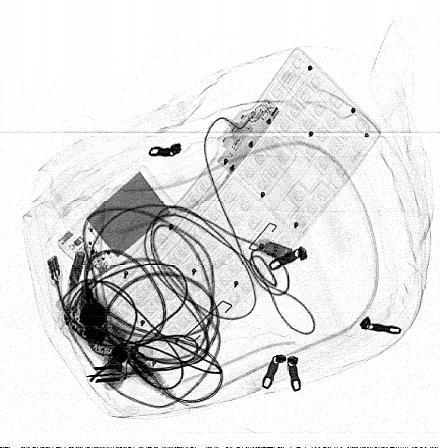Powerbank: (57, 165, 178, 281)
